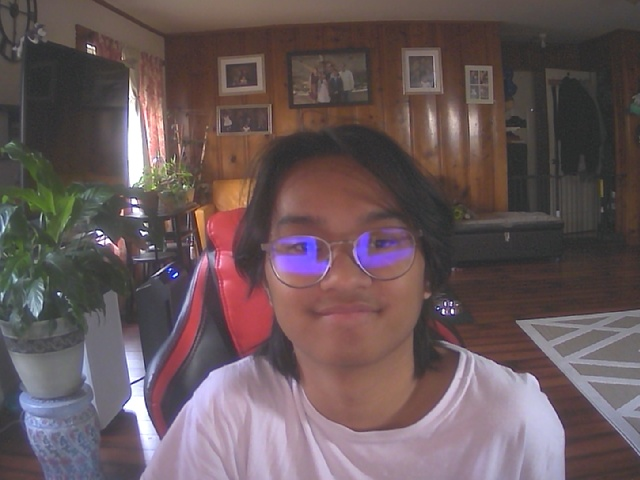happy: (253, 133, 443, 366)
